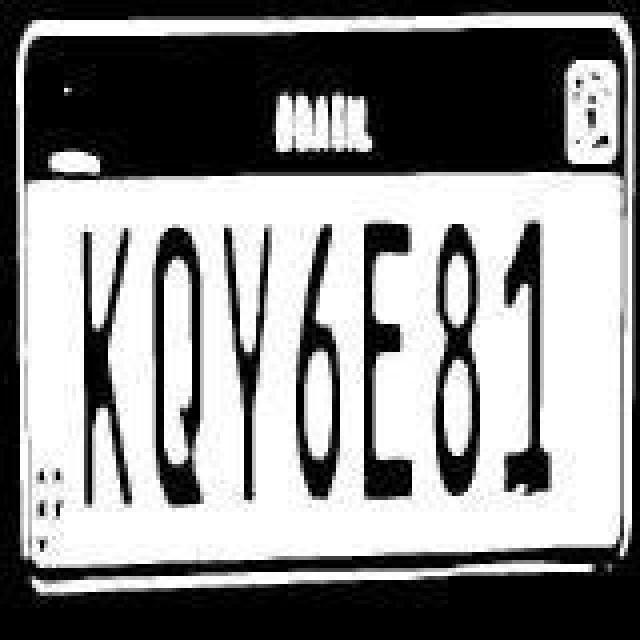1: (496, 216, 560, 504)
6: (284, 216, 348, 504)
8: (424, 218, 488, 502)
E: (348, 214, 420, 506)
K: (70, 220, 138, 516)
Q: (140, 222, 212, 514)
Y: (216, 218, 280, 510)
